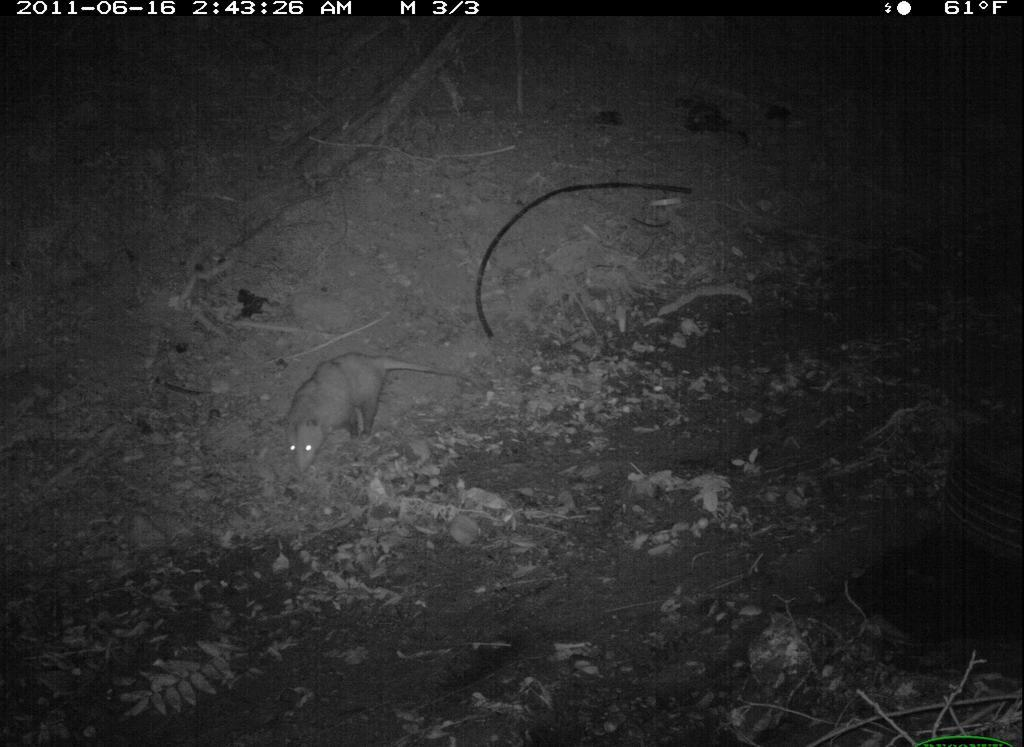opossum: (262, 323, 457, 482)
